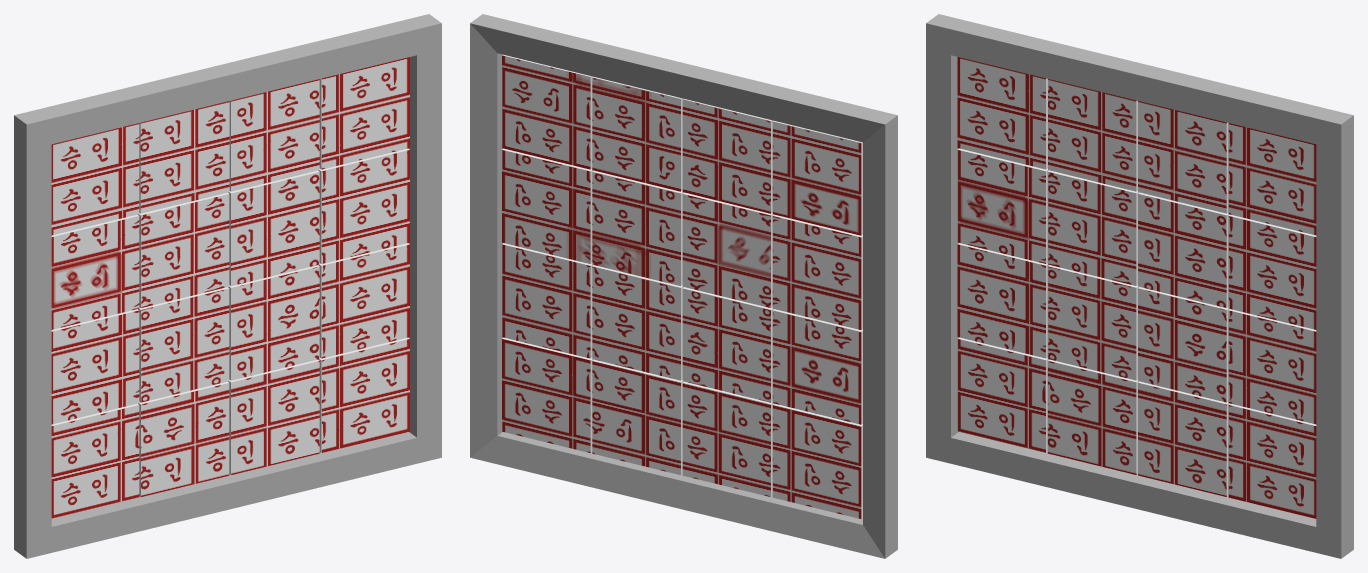
File: puzzle3_stamp.fbx
The picture shows the model from 3 angles, left to right: view 1: azimuth 30°, elevation 25°; view 2: azimuth 150°, elevation 25°; view 3: azimuth 330°, elevation 25°; orthographic projection.
Visible parts, largest first — view 1: tl_1, eleven, twelve, sic, sixteen, fourteen, five, ten, fifteen, seven, nine, thirteen (+5 smaller); view 2: tl_1, sic, eleven, twelve, sixteen, five, fourteen, ten, thirteen, fifteen, seven, eight (+5 smaller); view 3: tl_1, nine, ten, seven, eight, thirteen, fourteen, fifteen, eleven, sic, twelve, sixteen (+5 smaller).
Part boxes in pixels (x1=…): tl_1: x1=14, y1=14, x2=441, y2=558; eleven: x1=228, y1=265, x2=319, y2=380; twelve: x1=318, y1=243, x2=409, y2=358; sic: x1=228, y1=170, x2=319, y2=286; sixteen: x1=318, y1=337, x2=409, y2=452; fourteen: x1=138, y1=381, x2=229, y2=496; five: x1=318, y1=148, x2=409, y2=263; ten: x1=138, y1=287, x2=229, y2=402; fifteen: x1=228, y1=359, x2=319, y2=474; seven: x1=138, y1=192, x2=229, y2=307; nine: x1=51, y1=309, x2=139, y2=424; thirteen: x1=51, y1=403, x2=139, y2=518; tl_1: x1=470, y1=14, x2=897, y2=558; sic: x1=592, y1=170, x2=683, y2=286; eleven: x1=592, y1=265, x2=683, y2=380; twelve: x1=502, y1=243, x2=593, y2=358; sixteen: x1=502, y1=337, x2=593, y2=452; five: x1=502, y1=148, x2=593, y2=263; fourteen: x1=682, y1=381, x2=773, y2=496; ten: x1=682, y1=287, x2=773, y2=402; thirteen: x1=772, y1=403, x2=862, y2=519; fifteen: x1=592, y1=359, x2=683, y2=474; seven: x1=682, y1=192, x2=773, y2=307; eight: x1=772, y1=214, x2=862, y2=330; tl_1: x1=926, y1=14, x2=1353, y2=558; nine: x1=957, y1=243, x2=1048, y2=358; ten: x1=1047, y1=265, x2=1139, y2=380; seven: x1=1047, y1=170, x2=1139, y2=285; eight: x1=957, y1=148, x2=1049, y2=263; thirteen: x1=957, y1=337, x2=1048, y2=452; fourteen: x1=1047, y1=359, x2=1139, y2=474; fifteen: x1=1138, y1=381, x2=1229, y2=496; eleven: x1=1138, y1=287, x2=1229, y2=402; sic: x1=1138, y1=192, x2=1229, y2=307; twelve: x1=1228, y1=309, x2=1316, y2=424; sixteen: x1=1228, y1=403, x2=1316, y2=518.
Bounding box in the file's own units: 151 × 151 × 8.
17 materials, 16 textured.
